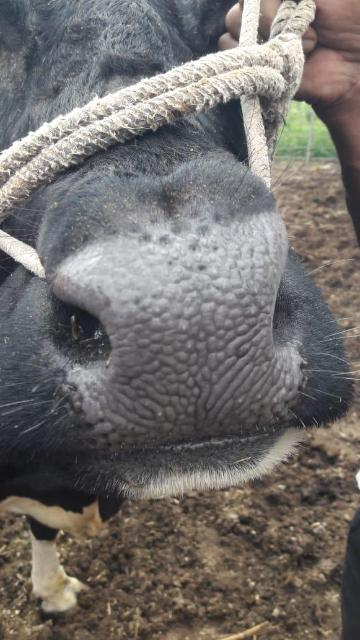Muzzle: (34, 250, 306, 440)
